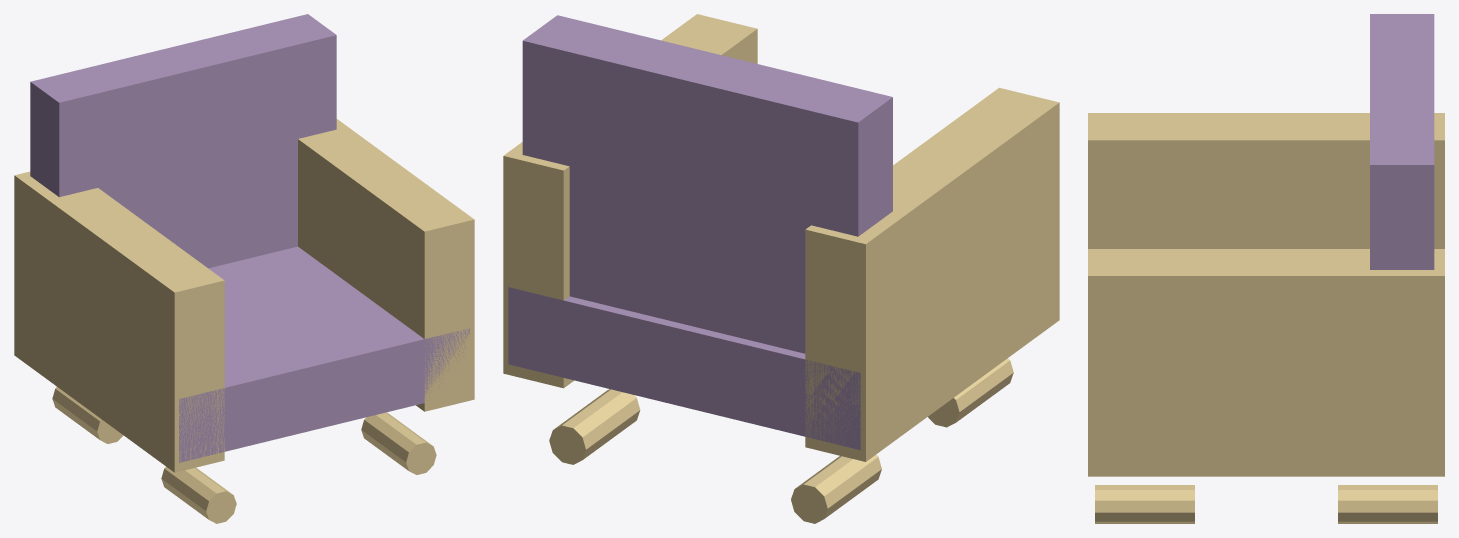
Rendered from luxury_lounge_chair.glb.
3 views of the same model, side by side, from view 1: azimuth 30°, elevation 25°; view 2: azimuth 150°, elevation 25°; view 3: azimuth 270°, elevation 25° (orthographic). The views are drawn at different scales.
Parts seen in each view (by area): view 1: part_01, part_02, part_00, part_03, part_07, part_05, part_04; view 2: part_01, part_02, part_00, part_03, part_06, part_04, part_05; view 3: part_03, part_02, part_01, part_06, part_07.
Part boxes in pixels (x1,y1,x2,y2): part_01: [30, 14, 336, 268]; part_02: [14, 171, 224, 472]; part_00: [179, 246, 470, 462]; part_03: [298, 119, 474, 411]; part_07: [361, 412, 436, 474]; part_05: [161, 466, 236, 523]; part_04: [52, 387, 123, 443]; part_01: [522, 15, 892, 353]; part_02: [805, 87, 1059, 461]; part_00: [508, 287, 860, 450]; part_03: [503, 14, 757, 388]; part_06: [549, 389, 640, 464]; part_04: [791, 454, 881, 523]; part_05: [928, 358, 1013, 427]; part_03: [1088, 249, 1444, 476]; part_02: [1088, 113, 1444, 248]; part_01: [1370, 14, 1434, 269]; part_06: [1338, 485, 1437, 523]; part_07: [1095, 485, 1194, 523].
Size of the model in its own units: 1.08 by 1.17 by 1.
